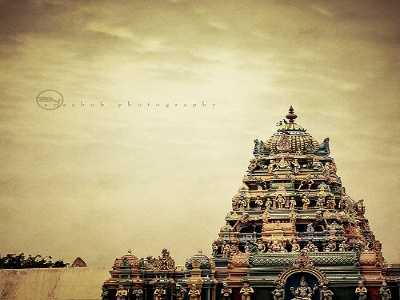gopura: (215, 126, 382, 259)
